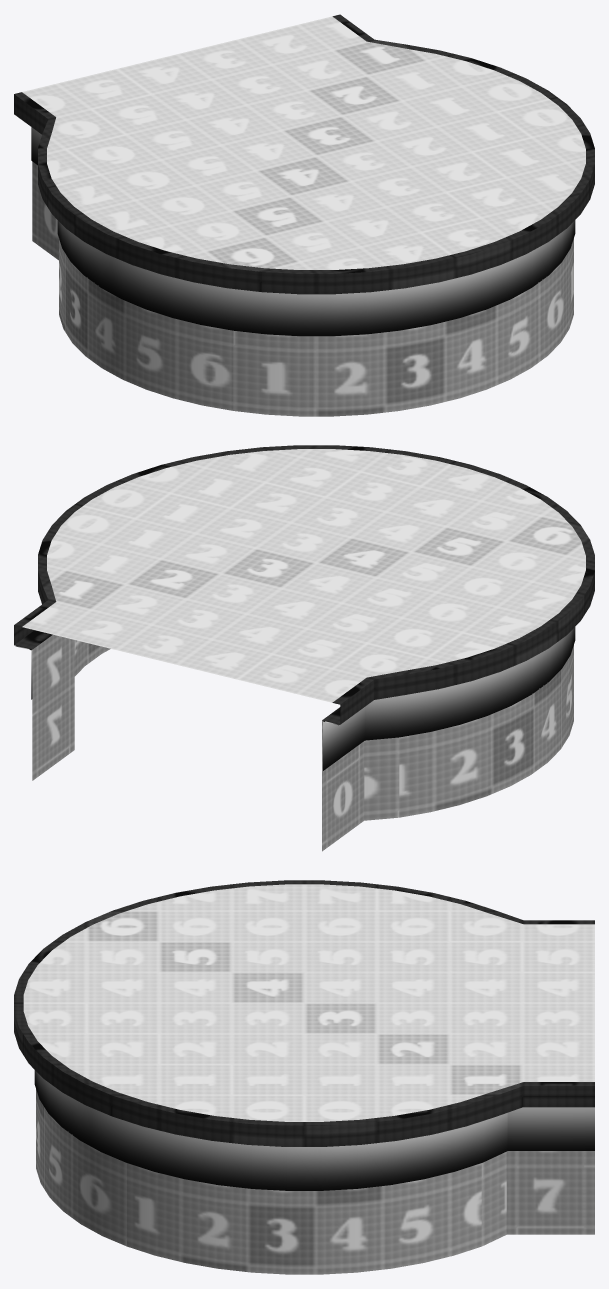
Rendered from Podium01_5.FBX.
The picture shows the model from 3 angles, top to bottom: view 1: azimuth 30°, elevation 25°; view 2: azimuth 150°, elevation 25°; view 3: azimuth 270°, elevation 25°; orthographic projection. The views are drawn at different scales.
Parts seen in each view (by area): view 1: Podium, Backlight; view 2: Podium, Backlight; view 3: Podium, Backlight.
Boxes of the visible parts, <box> form: Podium: <box>14,14,594,416</box>; Backlight: <box>31,127,575,336</box>; Podium: <box>14,445,594,851</box>; Backlight: <box>15,627,575,770</box>; Podium: <box>14,880,594,1274</box>; Backlight: <box>34,1070,594,1190</box>.
Size of the model in its own units: 250 by 75 by 250.
